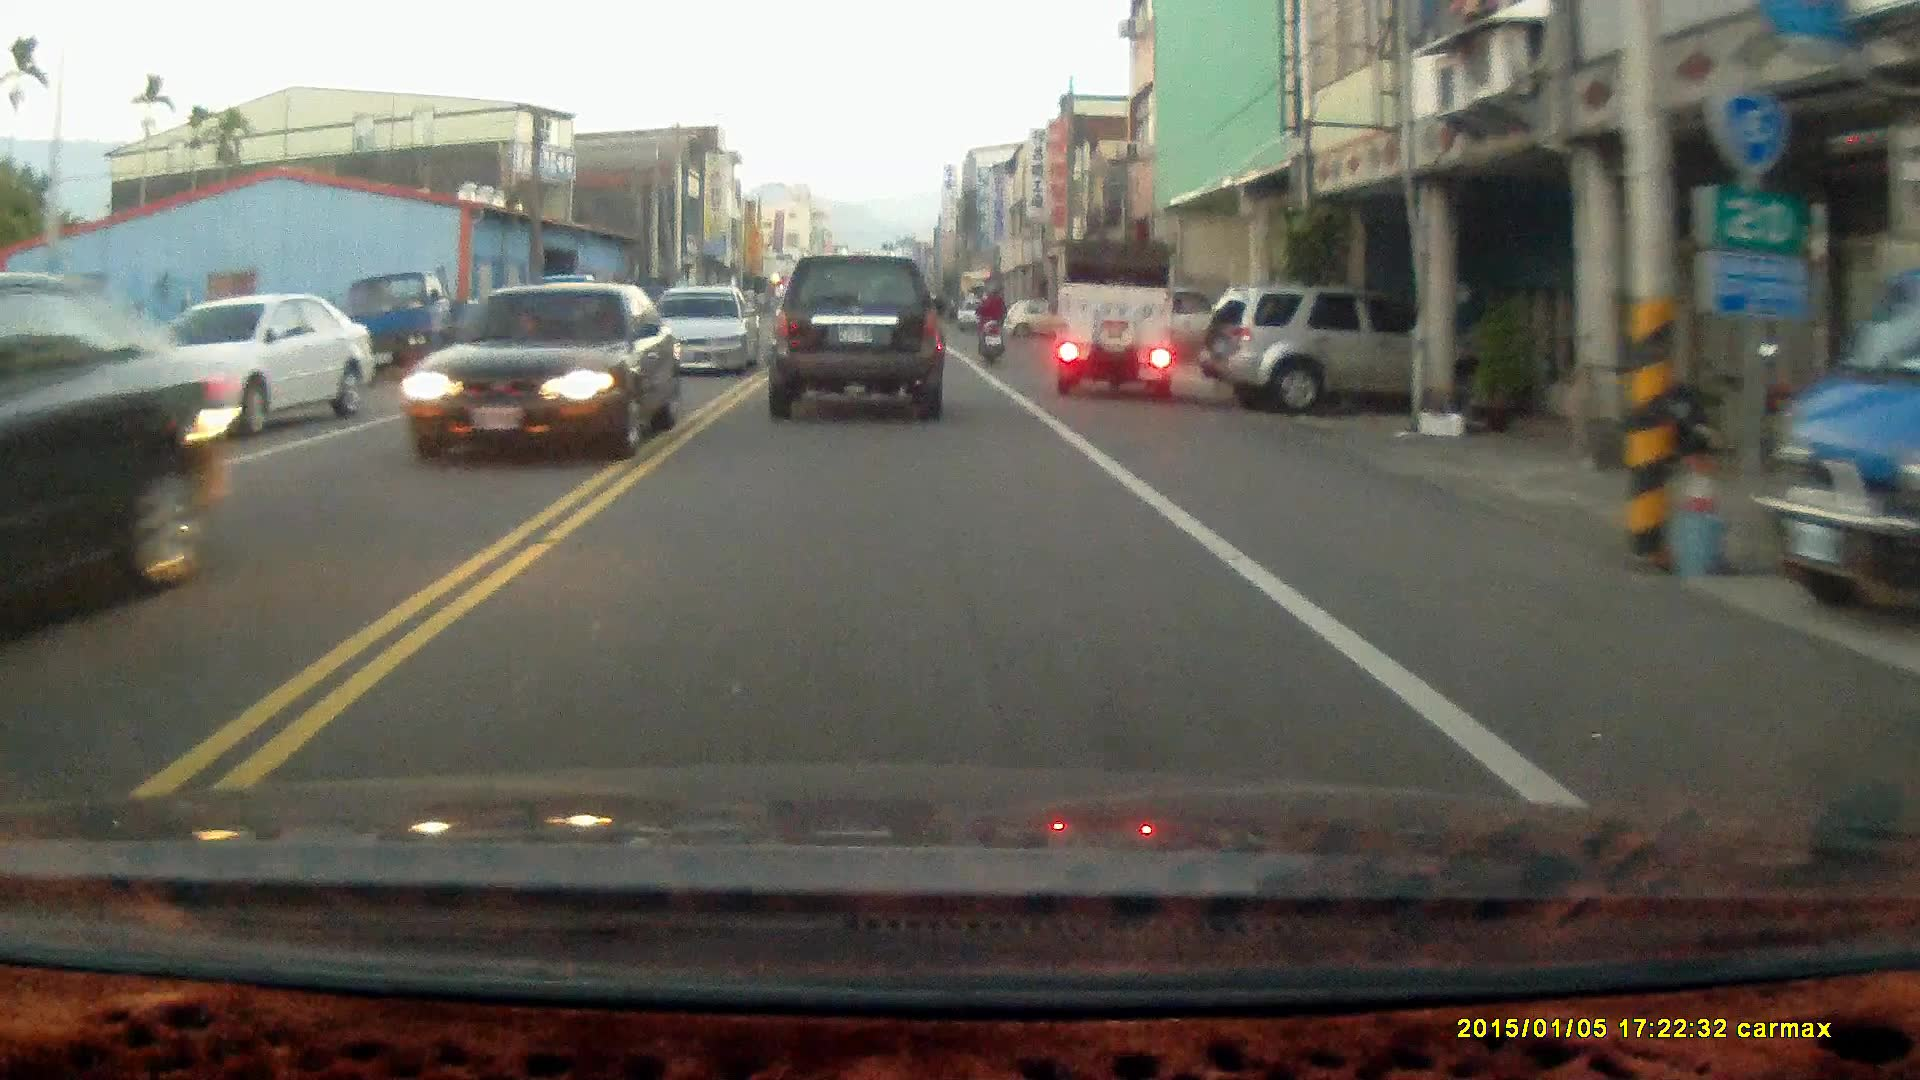rider: (972, 280, 1010, 366)
vehicle: (1, 277, 236, 653), (1755, 197, 1920, 625), (402, 283, 676, 469), (100, 296, 381, 460), (767, 261, 948, 427), (1209, 286, 1435, 418), (1055, 241, 1178, 398), (651, 288, 759, 380)
